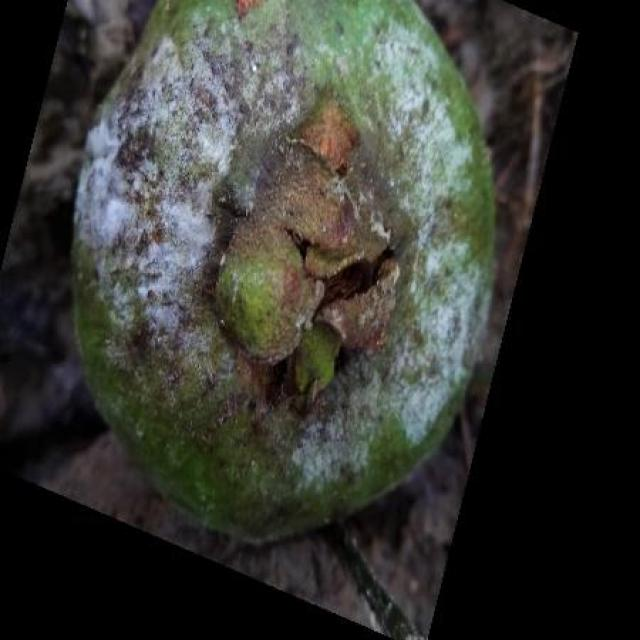Phytopthora: (75, 0, 495, 538)
